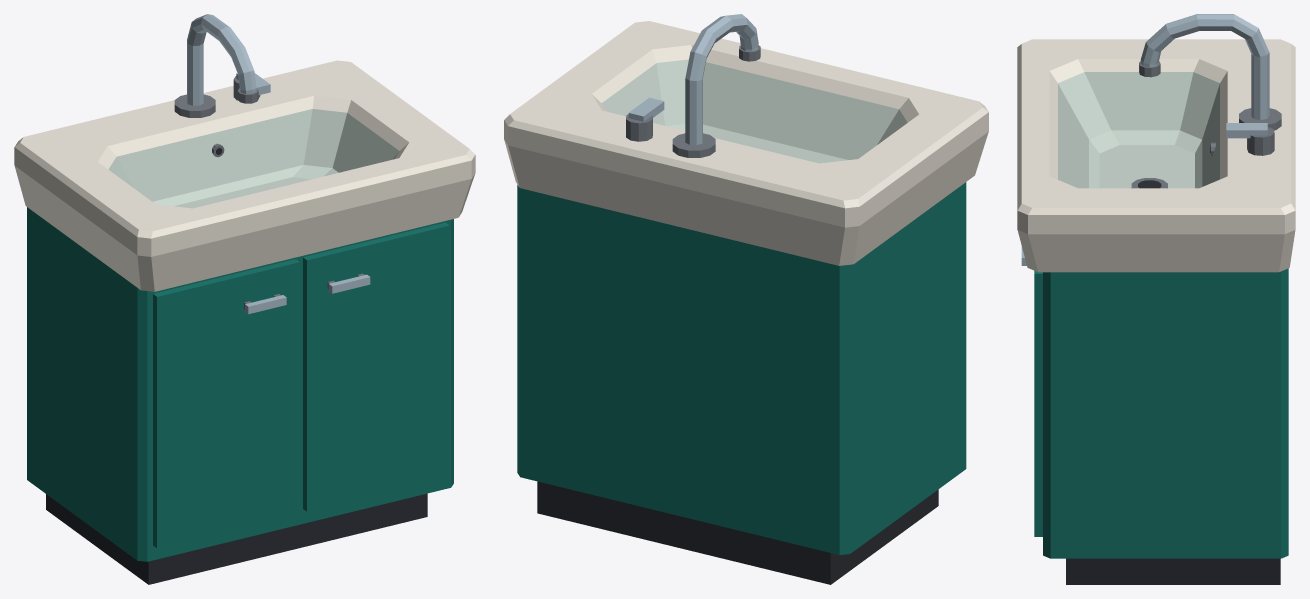
Rendered from sink.glb.
3 views of the same model, side by side, from view 1: azimuth 30°, elevation 25°; view 2: azimuth 150°, elevation 25°; view 3: azimuth 270°, elevation 25° (orthographic). The views are drawn at different scales.
Visible parts, largest first — view 1: sink_mesh; view 2: sink_mesh; view 3: sink_mesh.
Boxes of the visible parts, bbox=[...] form: sink_mesh: bbox=[14, 14, 475, 584]; sink_mesh: bbox=[504, 14, 988, 584]; sink_mesh: bbox=[1017, 14, 1295, 584].
Bounding box in the file's own units: 0.848 × 1.15 × 0.578.
Materials: 1 (1 with a texture image).
